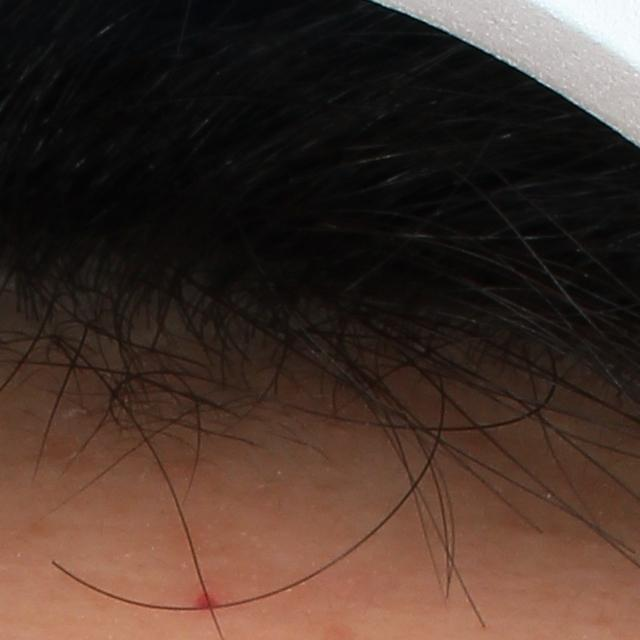other: (192, 584, 226, 618)
